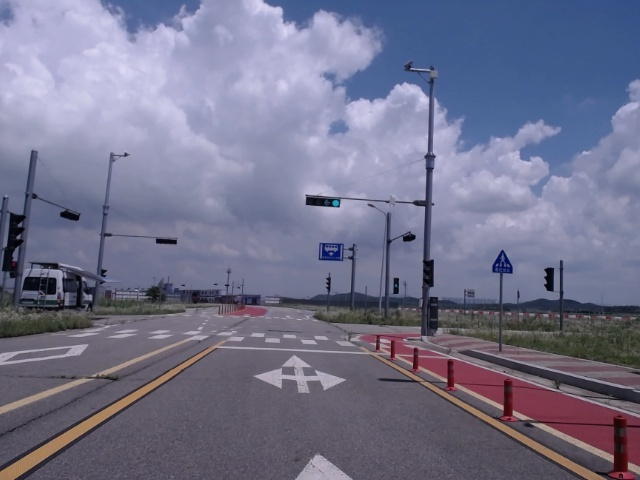all_green_4: (310, 192, 340, 207), (307, 195, 343, 207)
